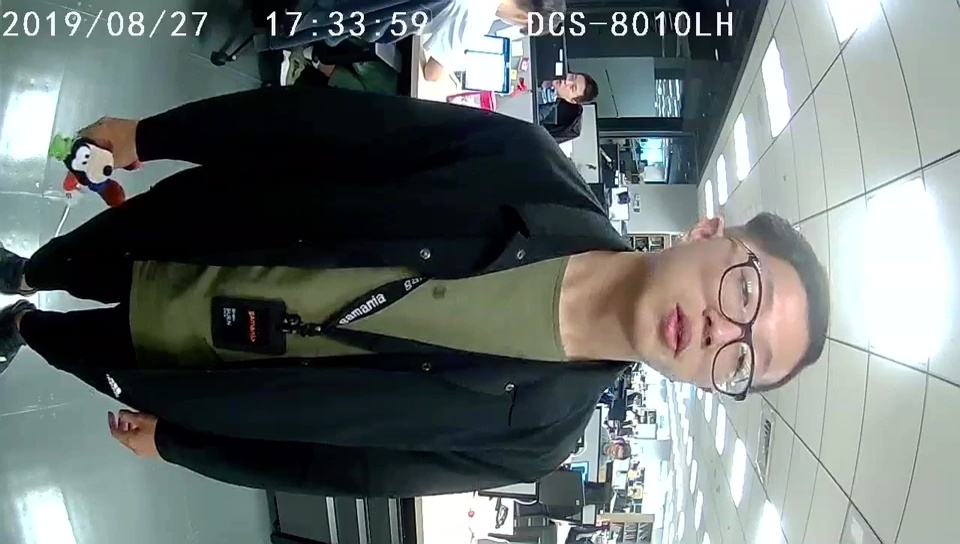goofy: (48, 135, 126, 210)
